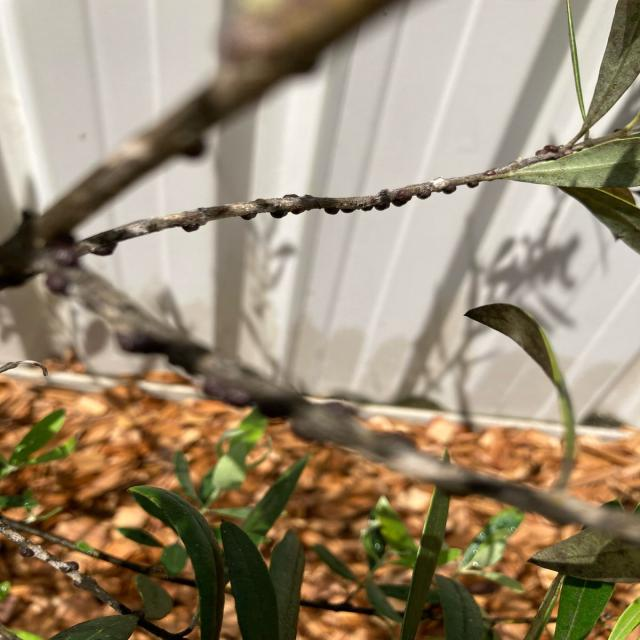Black Scale: (74, 131, 638, 256)
